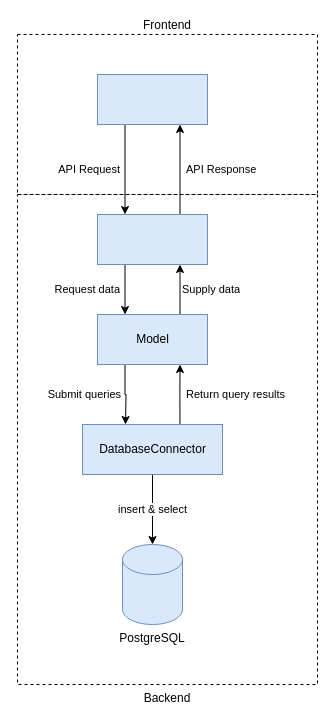
Image size: 335x722. Some labels were removed from this diagram. Here are the shapes that lost their labels. From the top down, the centre of each, then its label:
(152,99): React Application
(152,239): Controller
